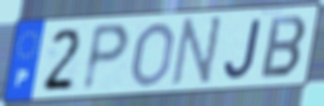2: (38, 26, 85, 94)
B: (258, 15, 309, 81)
J: (222, 16, 264, 81)
N: (168, 14, 226, 89)
O: (129, 20, 177, 89)
P: (79, 21, 133, 95)
